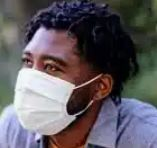with_facemask: (13, 69, 80, 133)
